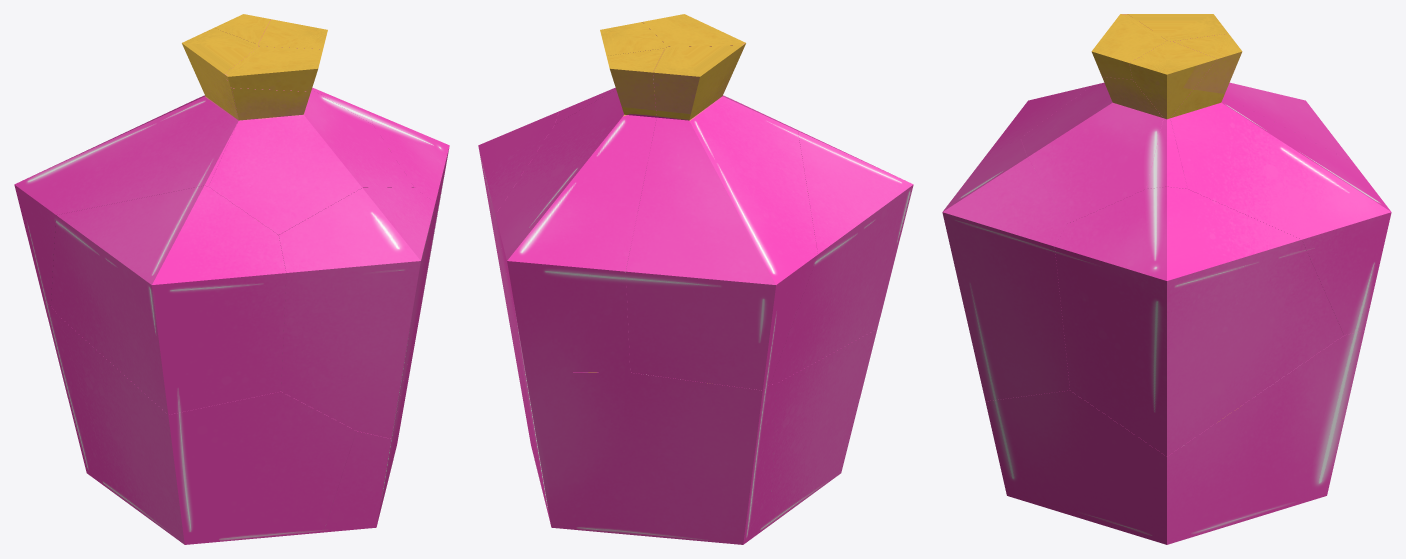
Rendered from BottleBreak.fbx.
3 views of the same model, side by side, from view 1: azimuth 30°, elevation 25°; view 2: azimuth 150°, elevation 25°; view 3: azimuth 270°, elevation 25° (orthographic).
Visible parts, largest first — view 1: bottle_cell.008, bottle_cell.007, bottle_cell.003, bottle_cell.006, bottle_cell, bottle_cell.005, bottle_cell.009, bottle_cell.002, bottle_cell.004, bottle_cell.001; view 2: bottle_cell.006, bottle_cell.005, bottle_cell.001, bottle_cell.008, bottle_cell.007, bottle_cell.009, bottle_cell.002, bottle_cell.004; view 3: bottle_cell.009, bottle_cell.005, bottle_cell.001, bottle_cell.003, bottle_cell, bottle_cell.004, bottle_cell.006, bottle_cell.002, bottle_cell.008.
Part boxes in pixels (x1=…): bottle_cell.008: x1=51, y1=185, x2=286, y2=414; bottle_cell.007: x1=59, y1=316, x2=356, y2=544; bottle_cell.003: x1=279, y1=187, x2=435, y2=438; bottle_cell.006: x1=14, y1=28, x2=258, y2=305; bottle_cell: x1=208, y1=88, x2=413, y2=234; bottle_cell.005: x1=44, y1=302, x2=414, y2=532; bottle_cell.009: x1=368, y1=111, x2=449, y2=352; bottle_cell.002: x1=224, y1=46, x2=322, y2=91; bottle_cell.004: x1=258, y1=19, x2=373, y2=124; bottle_cell.001: x1=125, y1=14, x2=270, y2=132; bottle_cell.006: x1=626, y1=45, x2=817, y2=390; bottle_cell.005: x1=513, y1=345, x2=776, y2=544; bottle_cell.001: x1=495, y1=48, x2=664, y2=372; bottle_cell.008: x1=770, y1=129, x2=913, y2=384; bottle_cell.007: x1=770, y1=329, x2=877, y2=524; bottle_cell.009: x1=478, y1=111, x2=559, y2=359; bottle_cell.002: x1=642, y1=14, x2=745, y2=54; bottle_cell.004: x1=554, y1=22, x2=667, y2=124; bottle_cell.009: x1=1054, y1=186, x2=1343, y2=456; bottle_cell.005: x1=985, y1=330, x2=1364, y2=544; bottle_cell.001: x1=1170, y1=33, x2=1391, y2=335; bottle_cell.003: x1=942, y1=138, x2=1069, y2=401; bottle_cell: x1=1020, y1=77, x2=1163, y2=223; bottle_cell.004: x1=1129, y1=41, x2=1217, y2=188; bottle_cell.006: x1=1090, y1=14, x2=1353, y2=162; bottle_cell.002: x1=1091, y1=14, x2=1166, y2=79; bottle_cell.008: x1=986, y1=85, x2=1091, y2=155.
Size of the model in its own units: 817 by 921 by 859.
